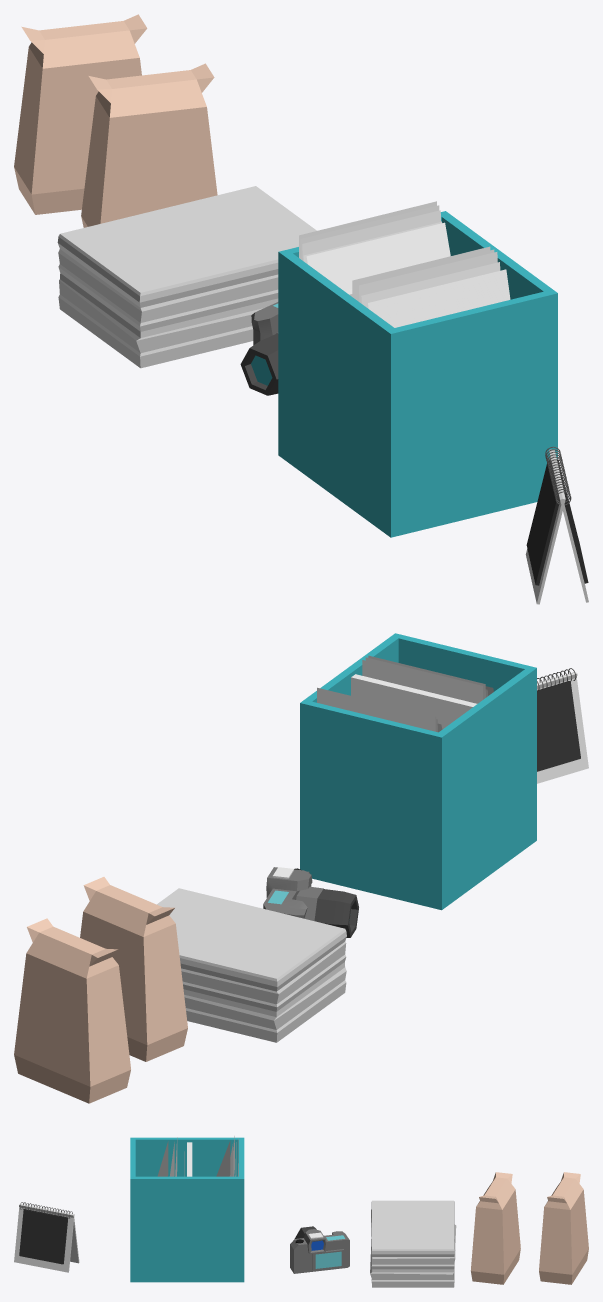
Rendered from SalaEstarObjetos01.fbx.
3 views of the same model, one above another, from view 1: azimuth 30°, elevation 25°; view 2: azimuth 150°, elevation 25°; view 3: azimuth 270°, elevation 25° (orthographic). The views are drawn at different scales.
Parts seen in each view (by area): view 1: SalaEstarObjetos01; view 2: SalaEstarObjetos01; view 3: SalaEstarObjetos01.
Part boxes in pixels (left/top/right/bottom): SalaEstarObjetos01: left=14, top=14, right=588, bottom=604; SalaEstarObjetos01: left=14, top=633, right=588, bottom=1103; SalaEstarObjetos01: left=14, top=1136, right=588, bottom=1287.
Bounding box in the file's own units: 37.76 × 39.82 × 183.
